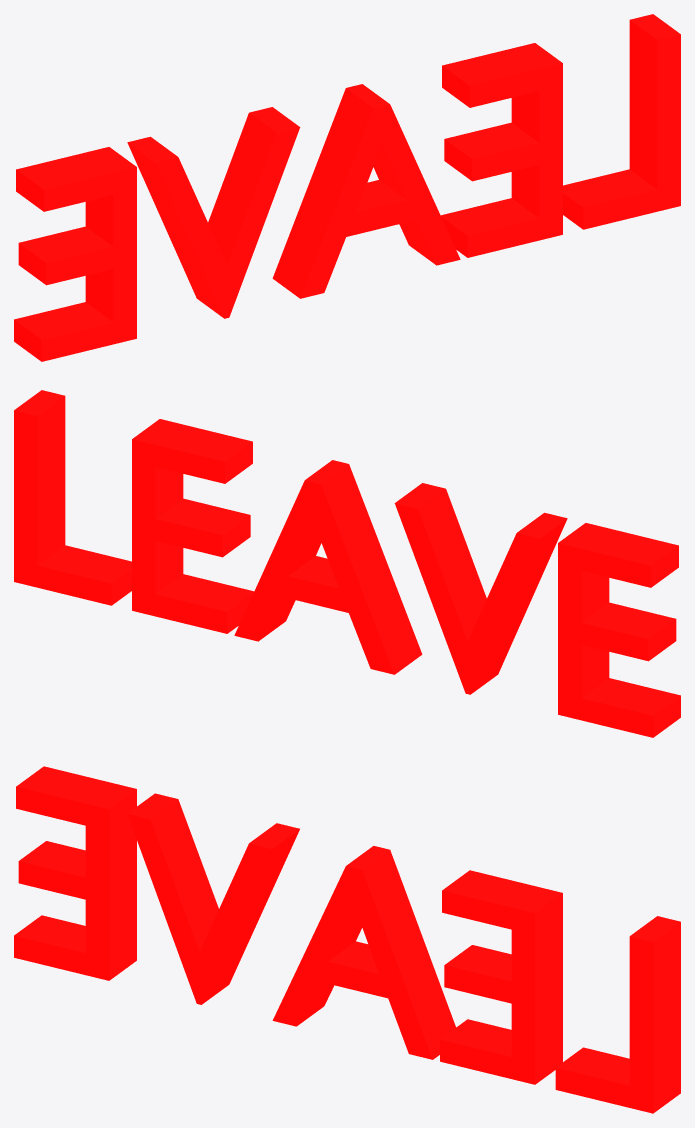
Rendered from text-leave.glb.
3 views of the same model, one above another, from view 1: azimuth 30°, elevation 25°; view 2: azimuth 150°, elevation 25°; view 3: azimuth 330°, elevation 25° (orthographic).
Parts seen in each view (by area): view 1: Text; view 2: Text; view 3: Text.
Part boxes in pixels (<box>): Text: <box>14,14,680,361</box>; Text: <box>14,390,680,737</box>; Text: <box>14,766,680,1113</box>.
Size of what is drawn, in the model's own units: 2.66 by 0.692 by 0.2.
